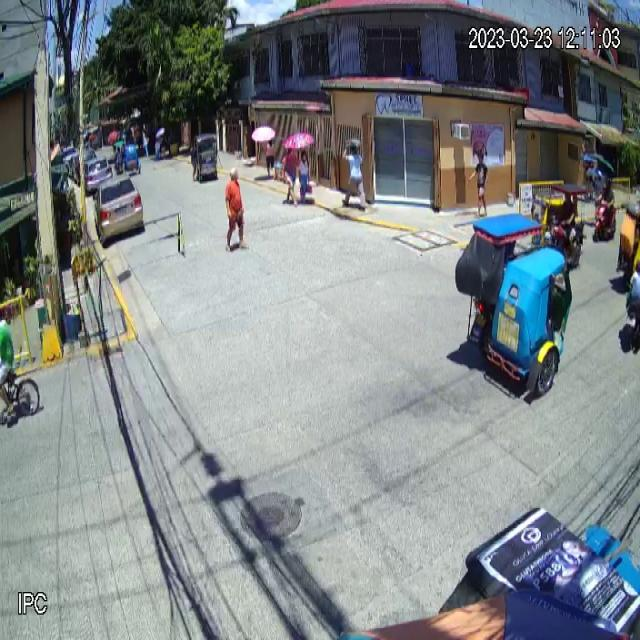Tricycle: (454, 214, 573, 395)
